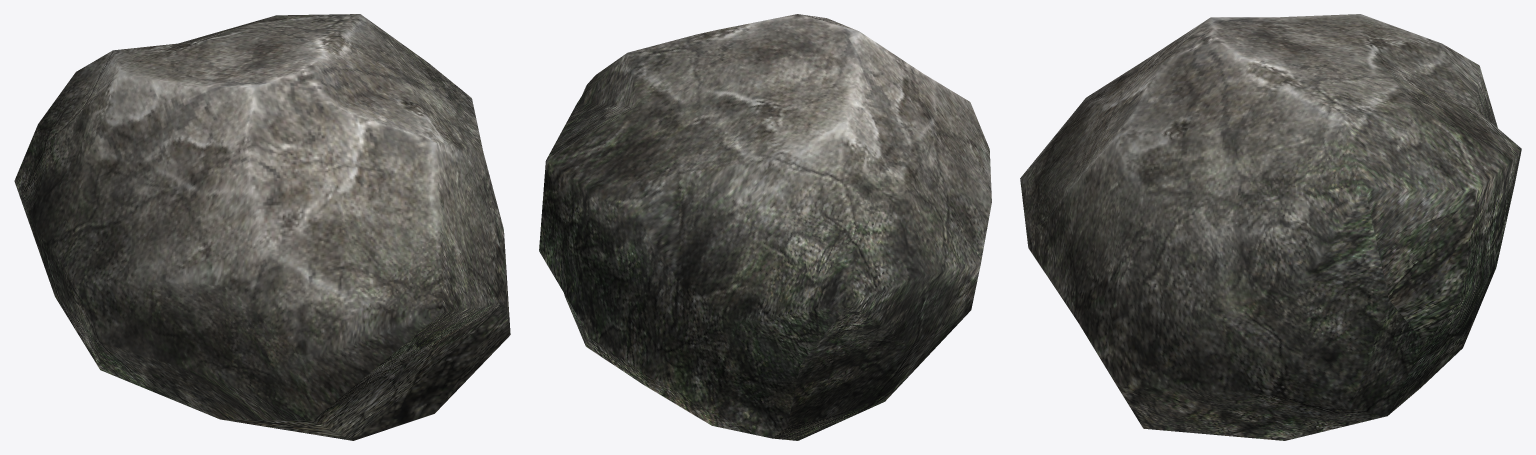
The model's file is Stone01.fbx.
3 views of the same model, side by side, from view 1: azimuth 30°, elevation 25°; view 2: azimuth 150°, elevation 25°; view 3: azimuth 270°, elevation 25° (orthographic). The views are drawn at different scales.
Visible parts, largest first — view 1: Stone01; view 2: Stone01; view 3: Stone01.
Part boxes in pixels (x1=…): Stone01: x1=14, y1=14, x2=510, y2=440; Stone01: x1=539, y1=14, x2=991, y2=440; Stone01: x1=1020, y1=14, x2=1521, y2=440.
Size of the model in its own units: 1.17 by 1.03 by 1.24.
